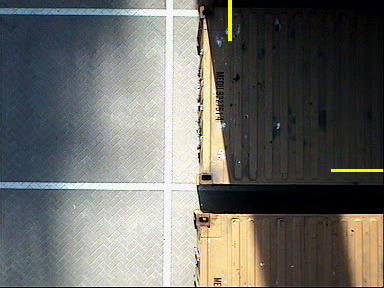groundmarker_2: (126, 7, 203, 54), (135, 147, 197, 191)
